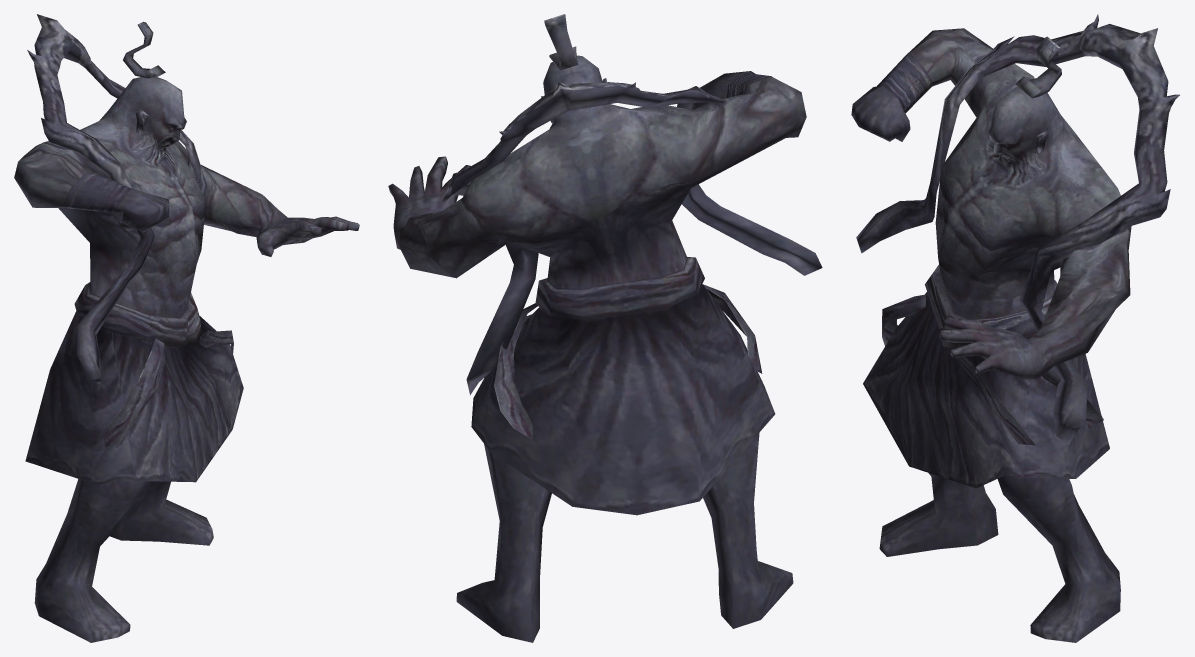
Rendered from DZMG_GM_DiaoXiang.FBX.
The picture shows the model from 3 angles, left to right: view 1: azimuth 30°, elevation 25°; view 2: azimuth 150°, elevation 25°; view 3: azimuth 270°, elevation 25°; orthographic projection. The views are drawn at different scales.
Parts seen in each view (by area): view 1: DZMG_GM_DiaoXiang; view 2: DZMG_GM_DiaoXiang; view 3: DZMG_GM_DiaoXiang.
Part boxes in pixels (x1,y1,x2,y2): DZMG_GM_DiaoXiang: [14, 14, 359, 642]; DZMG_GM_DiaoXiang: [388, 14, 822, 642]; DZMG_GM_DiaoXiang: [851, 14, 1179, 642].
Size of the model in its own units: 452 by 653 by 346.
